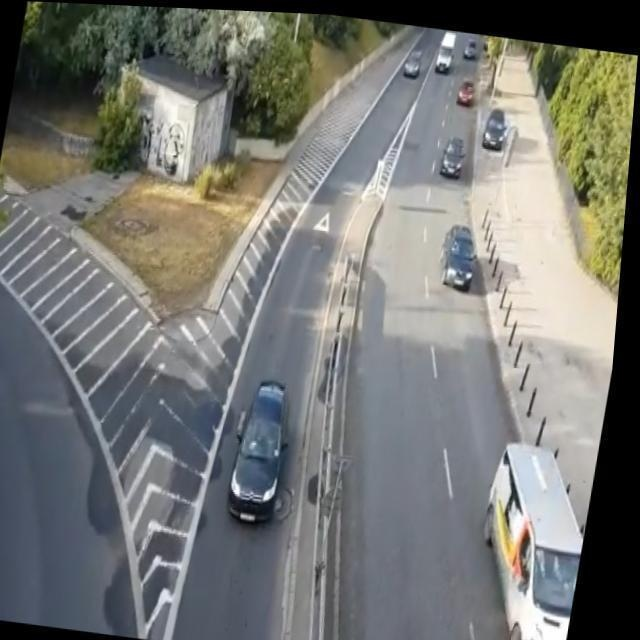Car: (464, 422, 607, 640), (226, 372, 310, 530), (434, 211, 488, 295), (434, 131, 471, 185), (483, 108, 513, 157), (430, 30, 460, 74), (453, 76, 483, 118), (399, 49, 429, 82)
